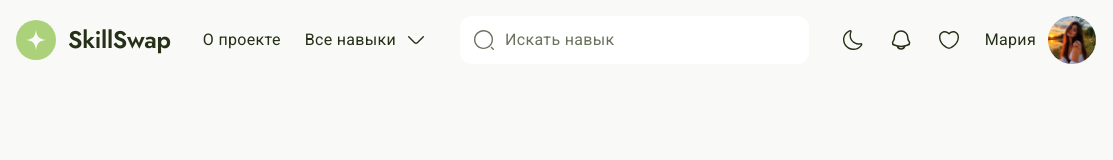
Scenario: Header › вошедший › объявляет состояние окна уведомлений
Click the button named "Уведомления".
click(901, 40)  # box [889,28,913,52]
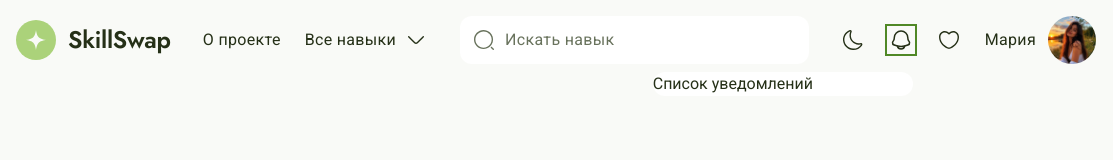
Press Escape
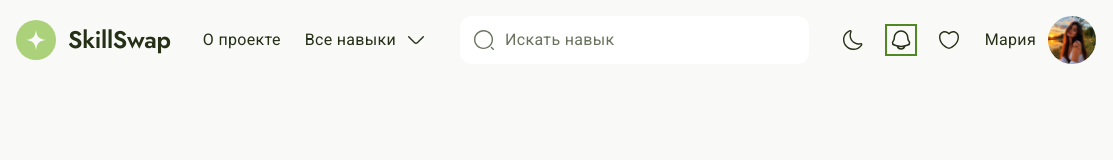
Now the text "Список уведомлений" is gone
